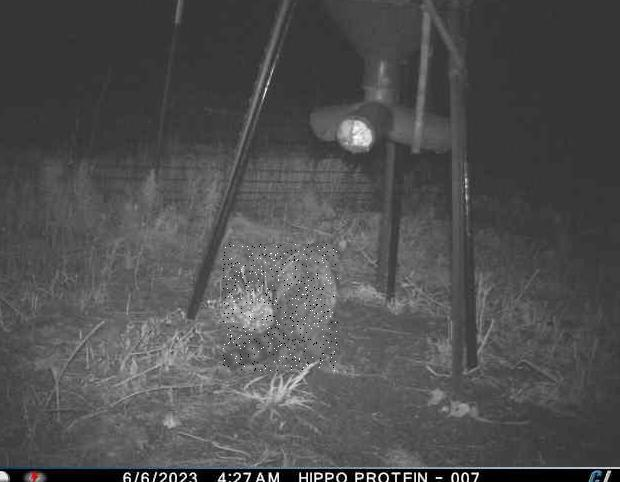Raccoon: (224, 245, 339, 372)
